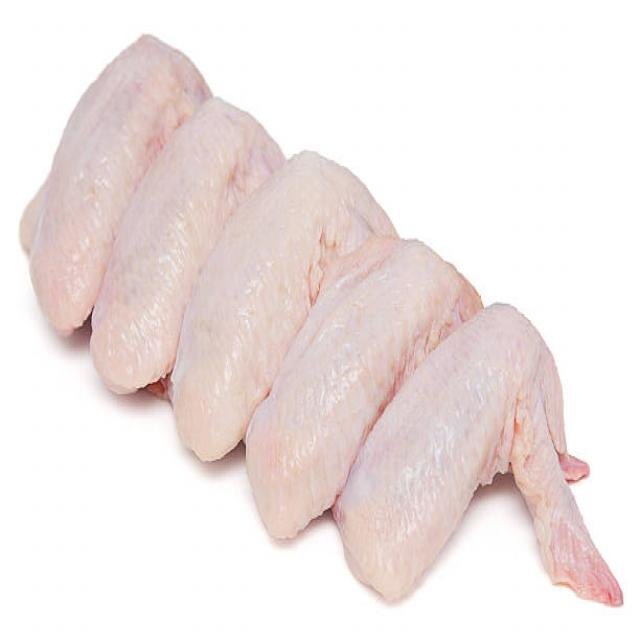Chicken: (354, 318, 616, 618)
